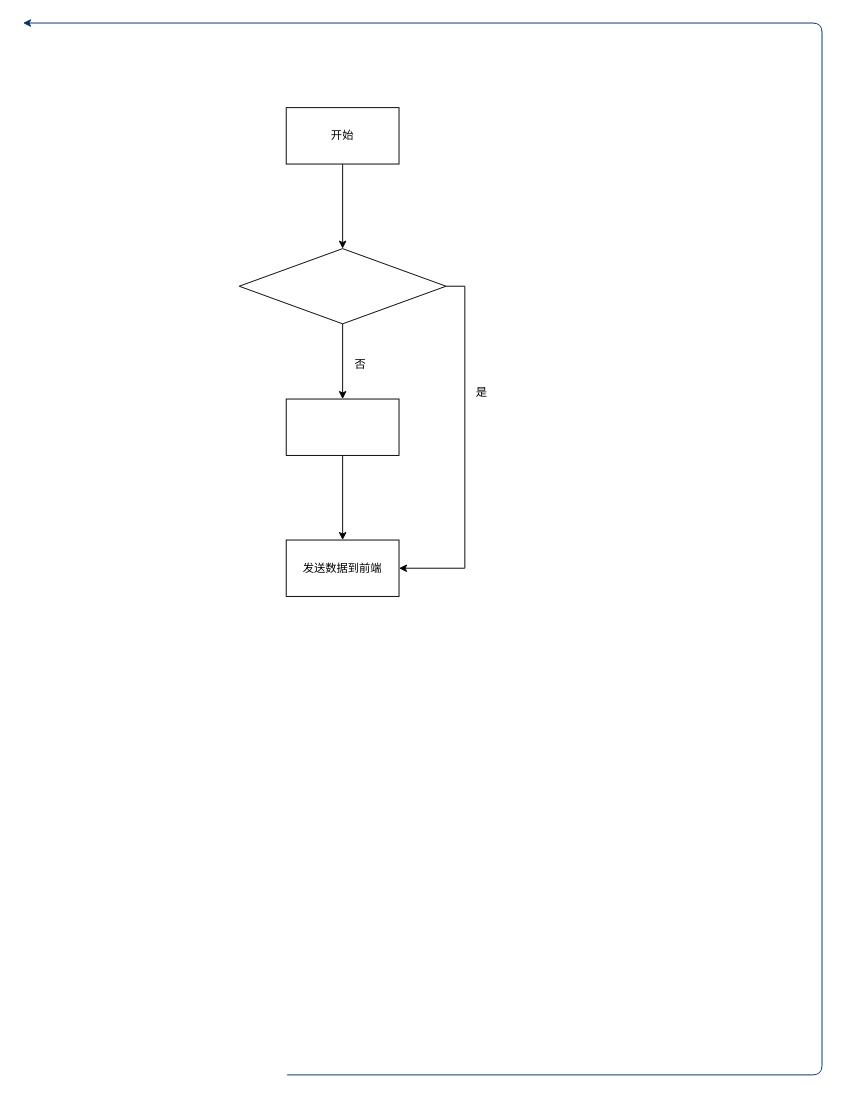
The diagram is 846 pixels wide and 1099 high, and some of its shapes have lost their labels. Each missing label, with the box of its shape:
主动学习策略挑选待标记数据: (285, 398, 399, 455)
队列中样本数量 >= 请求数量？: (238, 248, 446, 324)
